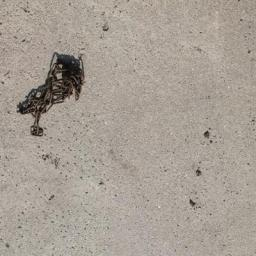FOD: (17, 52, 91, 139)
